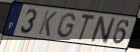3: (19, 8, 38, 35)
6: (112, 19, 129, 45)
G: (55, 11, 78, 39)
K: (37, 9, 59, 38)
N: (89, 15, 117, 45)
T: (78, 12, 96, 42)
